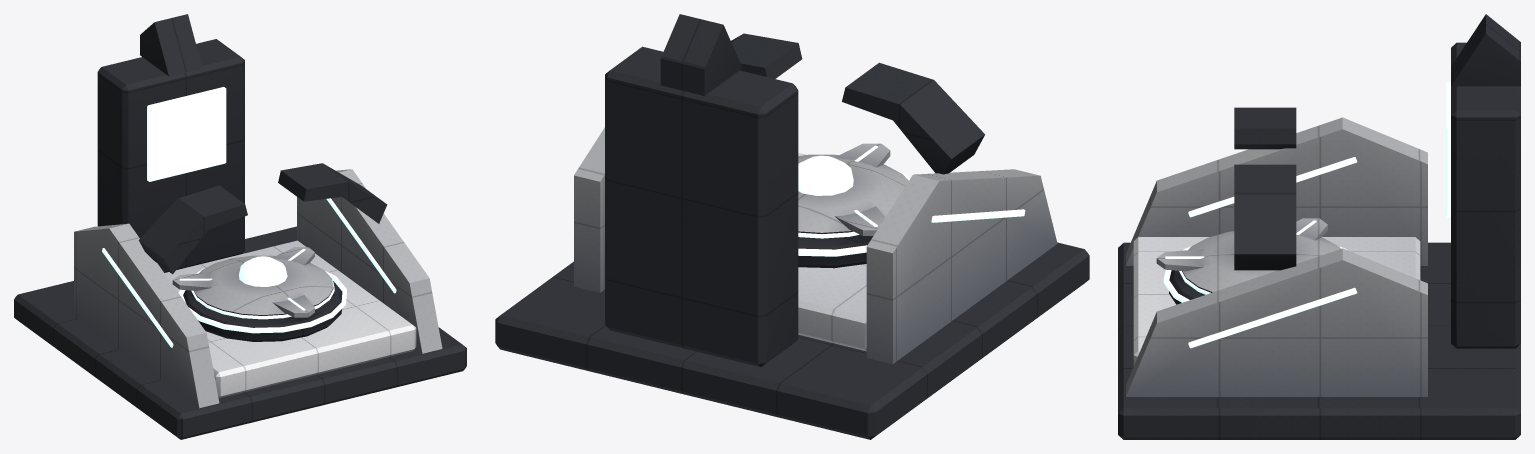
File: R4X_ExplosiveTrapDeployer_LOD1.glb
3 renders of one model, left to right at view 1: azimuth 30°, elevation 25°; view 2: azimuth 150°, elevation 25°; view 3: azimuth 270°, elevation 25°, orthographic. The views are drawn at different scales.
Parts seen in each view (by area): view 1: R4X_ExplosiveTrapDeployer_LOD1; view 2: R4X_ExplosiveTrapDeployer_LOD1; view 3: R4X_ExplosiveTrapDeployer_LOD1.
Part boxes in pixels (x1,y1,x2,y2): R4X_ExplosiveTrapDeployer_LOD1: (14, 14, 466, 439); R4X_ExplosiveTrapDeployer_LOD1: (495, 14, 1089, 439); R4X_ExplosiveTrapDeployer_LOD1: (1118, 14, 1520, 439).
Size of the model in its own units: 0.52 by 0.475 by 0.52.
4 materials, 3 textured.
